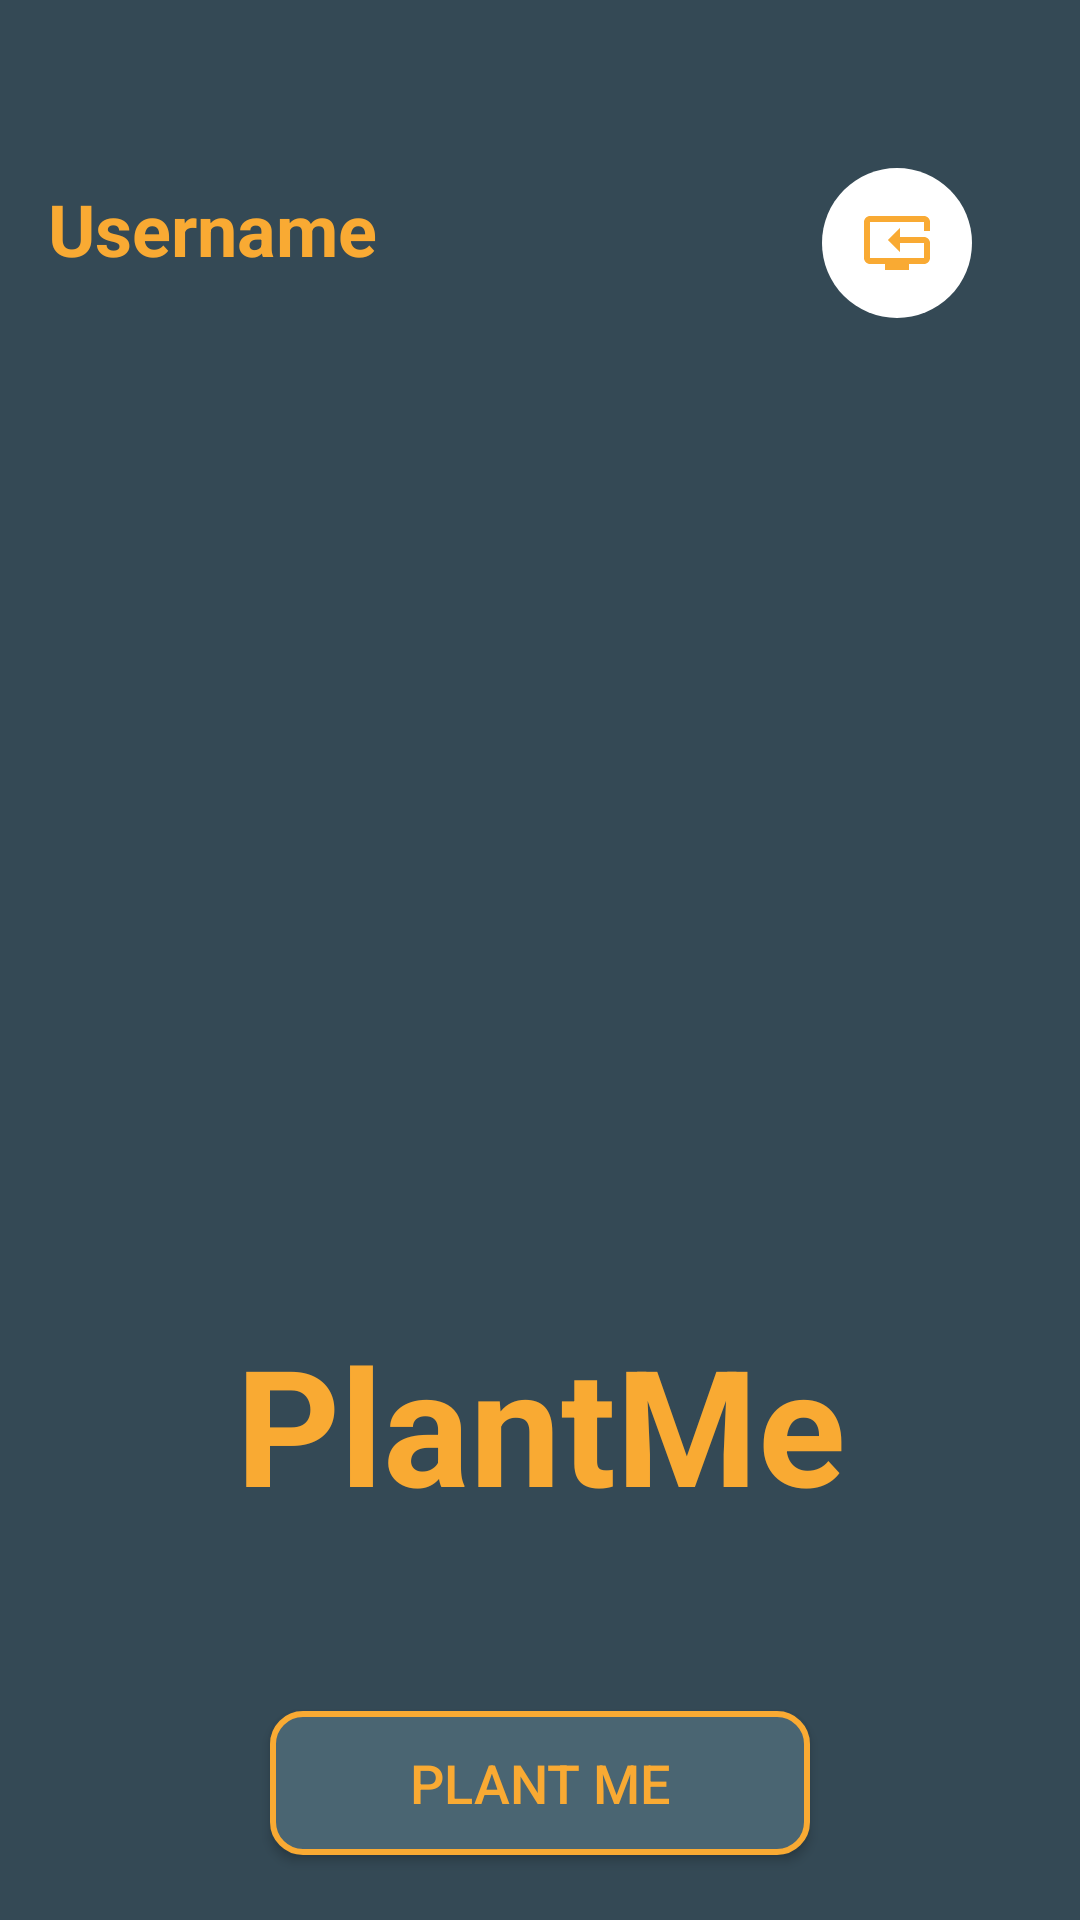

Named icons in this screenshot (1080×1920) and their bounding boxes, box=[x1, y1, x2, y2]:
reset tv: box=[822, 168, 972, 318]
